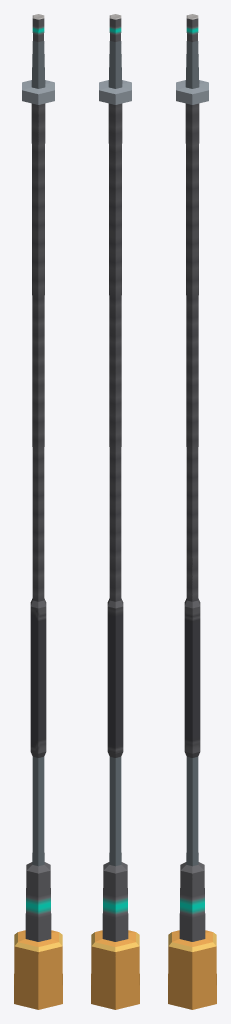
File: SM_Prop_Canopy_Pole_01.fbx
3 views of the same model, side by side, from view 1: azimuth 30°, elevation 25°; view 2: azimuth 150°, elevation 25°; view 3: azimuth 330°, elevation 25° (orthographic).
Visible parts, largest first — view 1: SM_Prop_Canopy_Pole_01; view 2: SM_Prop_Canopy_Pole_01; view 3: SM_Prop_Canopy_Pole_01.
Part boxes in pixels (left/top/right/bottom): SM_Prop_Canopy_Pole_01: left=14, top=14, right=62, bottom=1009; SM_Prop_Canopy_Pole_01: left=91, top=14, right=139, bottom=1009; SM_Prop_Canopy_Pole_01: left=168, top=14, right=216, bottom=1009.
Size of the model in its own units: 36.8 by 705 by 31.87.
